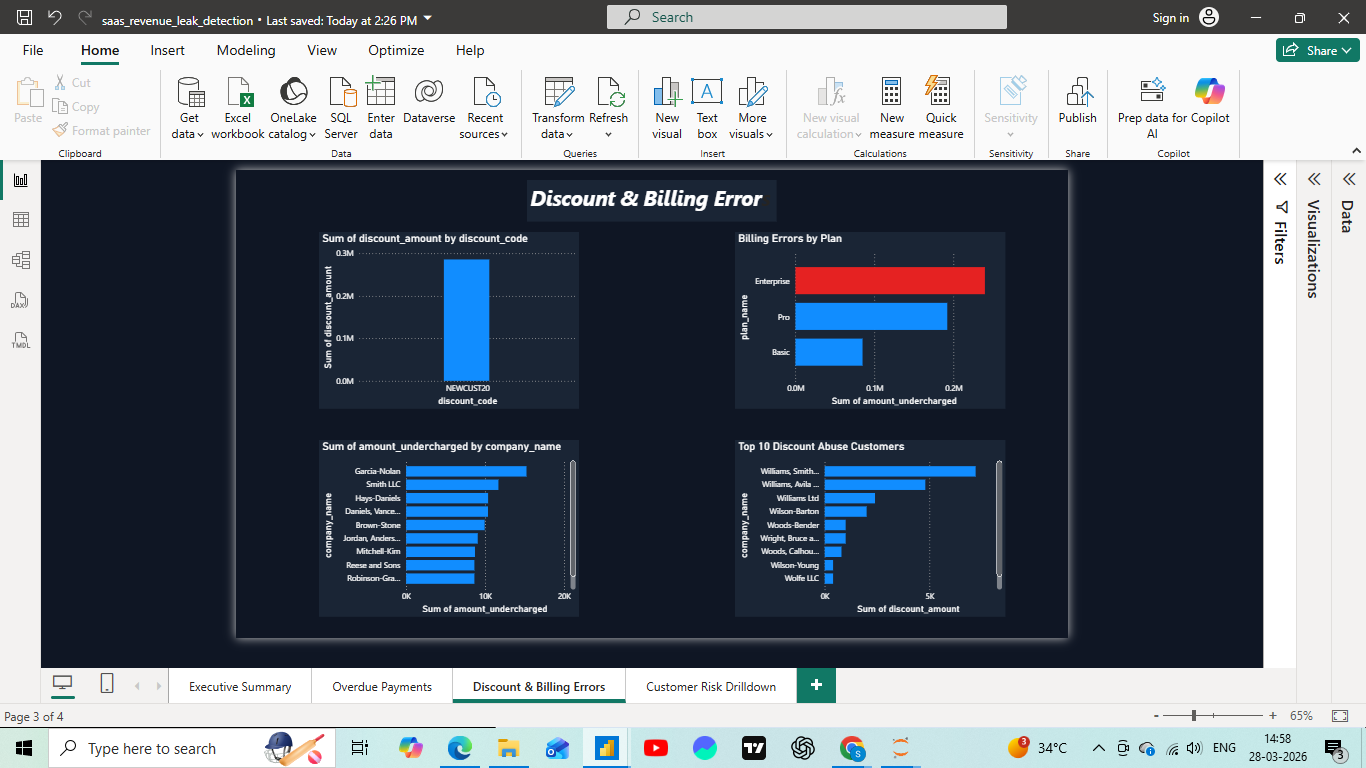

This screenshot's page, from the dashboard's own definition file:
{"tool":"powerbi","page":{"name":"Discount & Billing Errors","canvas":[1280,720],"ordinal":2},"visuals":[{"type":"columnChart","fields":{"Category":["Leak2_Discount_Abuse.discount_code"],"Y":["Sum(Leak2_Discount_Abuse.discount_amount)"]},"box":[128,96,400,272],"z":0},{"type":"clusteredBarChart","fields":{"Category":["Leak3_Billing_Errors.company_name"],"Y":["Sum(Leak3_Billing_Errors.amount_undercharged)"]},"box":[128,416,400,272],"z":1000},{"type":"clusteredBarChart","title":"Top 10 Discount Abuse Customers","fields":{"Category":["Leak2_Discount_Abuse.company_name"],"Y":["Sum(Leak2_Discount_Abuse.discount_amount)"]},"box":[768,416,416,272],"z":2000},{"type":"clusteredBarChart","title":"Billing Errors by Plan","fields":{"Category":["Leak3_Billing_Errors.plan_name"],"Y":["Sum(Leak3_Billing_Errors.amount_undercharged)"]},"box":[768,96,416,272],"z":3000},{"type":"textbox","box":[448,0,384,64],"z":4000}]}

Visuals, with their boxes on the page's 1280x720 design canvas (x1, y1, x2, y2). These are canvas units, not pixel positions in the 1366x768 screenshot, which may show the page scaled, cropped or inside an application window:
columnChart - Leak2_Discount_Abuse.discount_code x Sum(Leak2_Discount_Abuse.discount_amount): pyautogui.locateOnScreen(128, 96, 528, 368)
clusteredBarChart - Leak3_Billing_Errors.company_name x Sum(Leak3_Billing_Errors.amount_undercharged): pyautogui.locateOnScreen(128, 416, 528, 688)
"Top 10 Discount Abuse Customers" clusteredBarChart: pyautogui.locateOnScreen(768, 416, 1184, 688)
"Billing Errors by Plan" clusteredBarChart: pyautogui.locateOnScreen(768, 96, 1184, 368)
textbox: pyautogui.locateOnScreen(448, 0, 832, 64)
